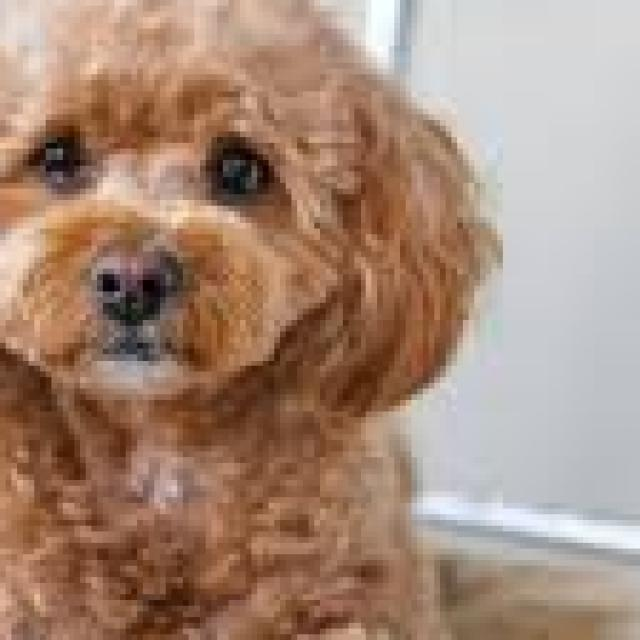dog: (0, 0, 566, 640)
